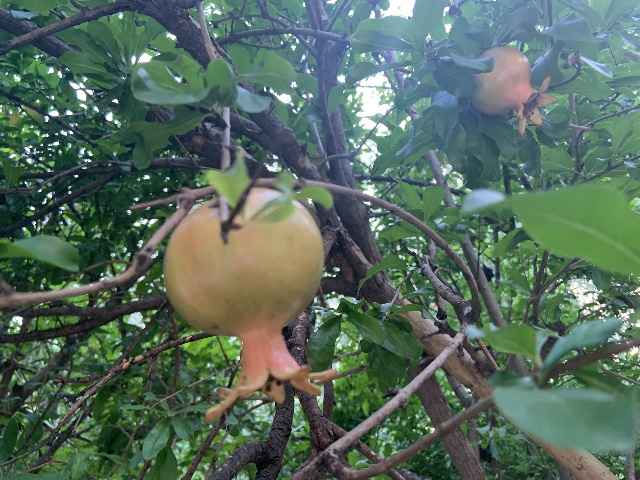mid-growth: (163, 185, 336, 420), (471, 45, 559, 136)
